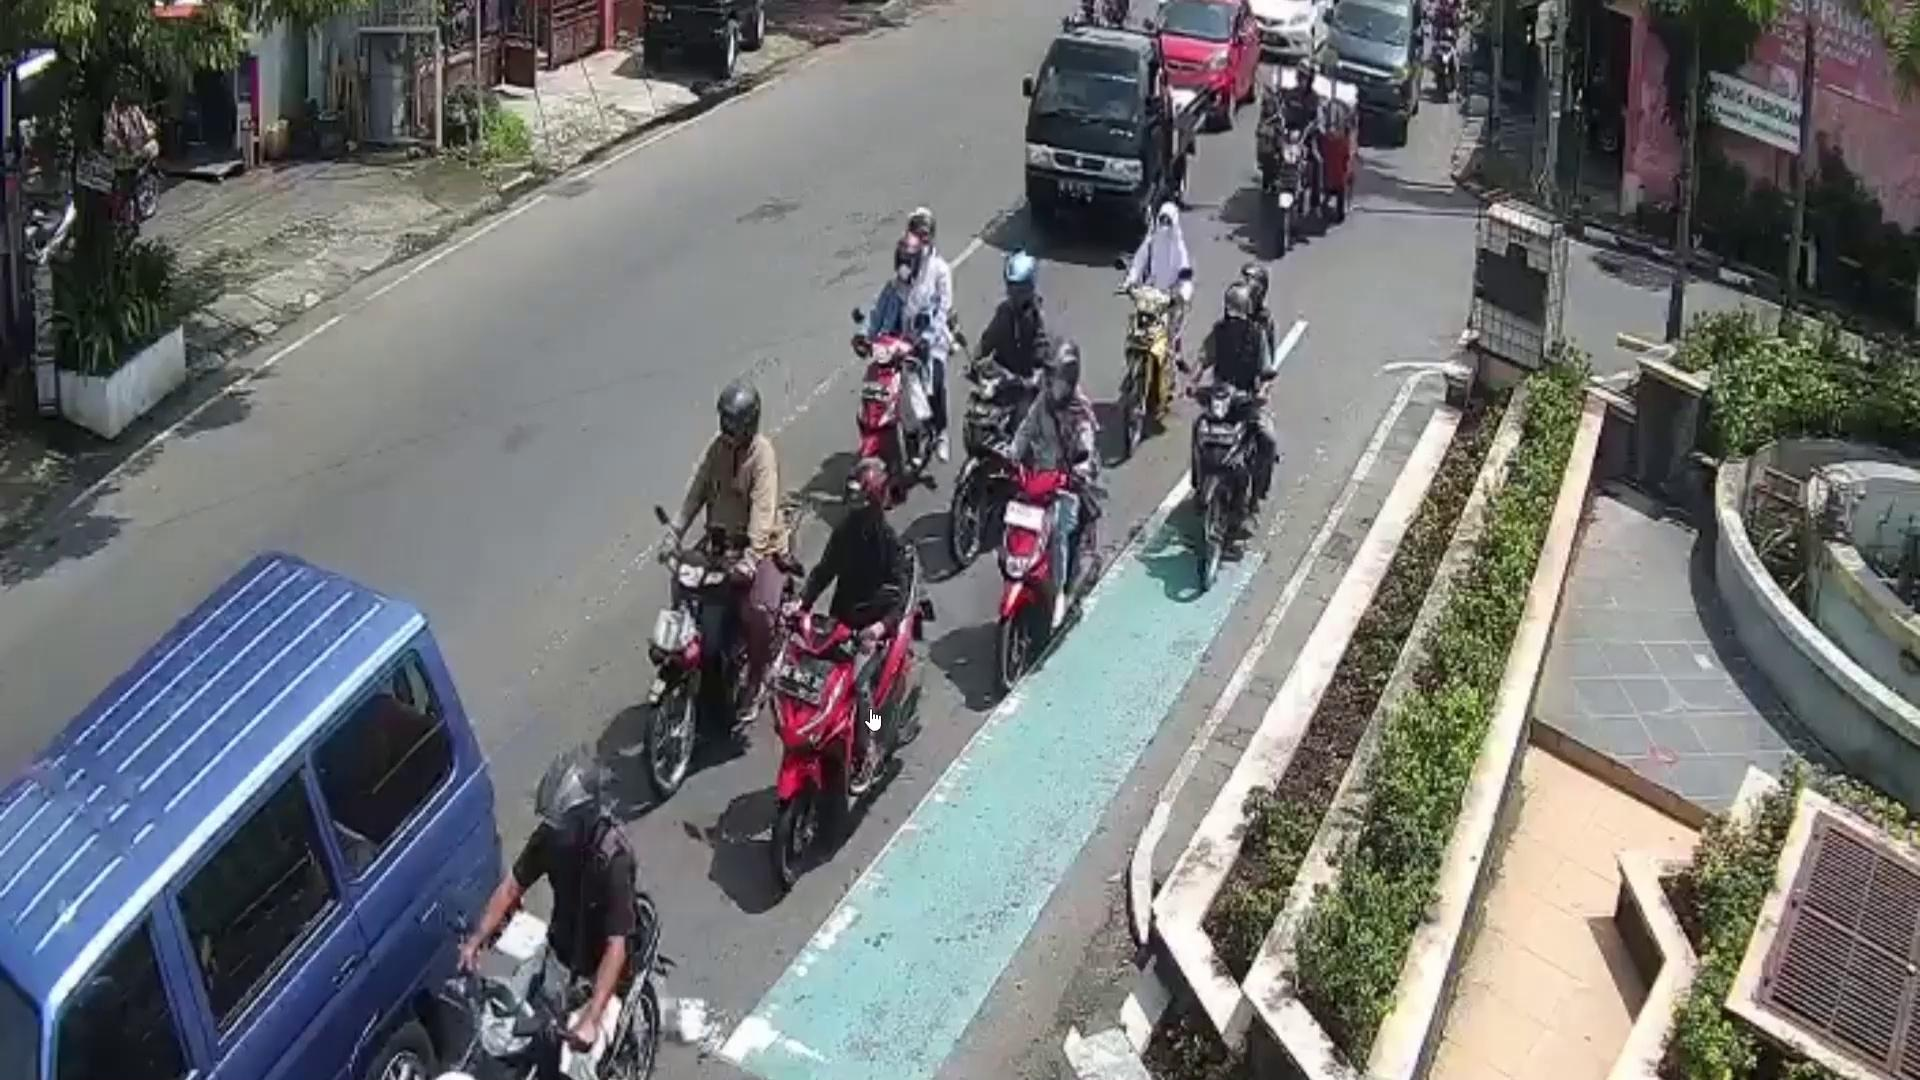car: (0, 530, 514, 1080), (1026, 17, 1205, 232), (1327, 0, 1431, 150), (1153, 0, 1254, 148), (1247, 0, 1325, 71)
motorbike: (748, 539, 923, 897), (647, 491, 794, 804), (455, 884, 663, 1080), (997, 462, 1109, 675), (1179, 360, 1275, 593), (1112, 255, 1199, 455), (848, 303, 935, 491), (943, 343, 1015, 555), (1267, 119, 1317, 258)
